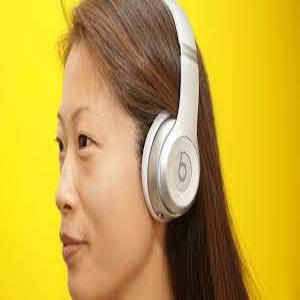Headphones: (109, 1, 207, 221)
